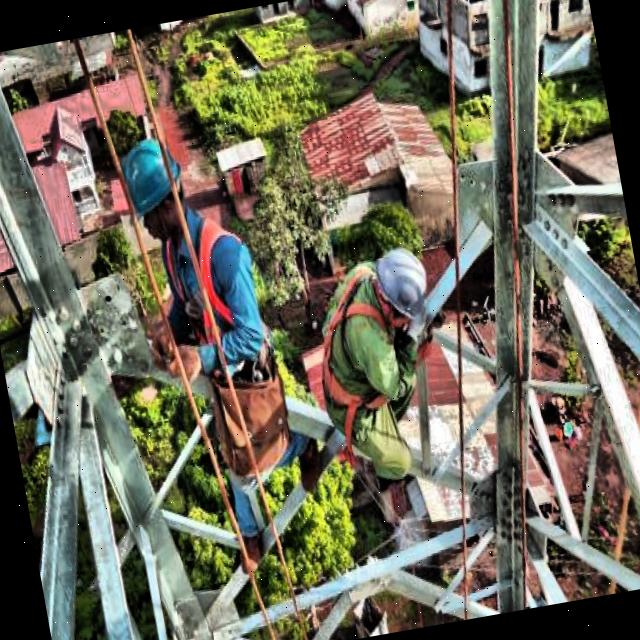helmet: (114, 128, 194, 254), (363, 235, 436, 338)
